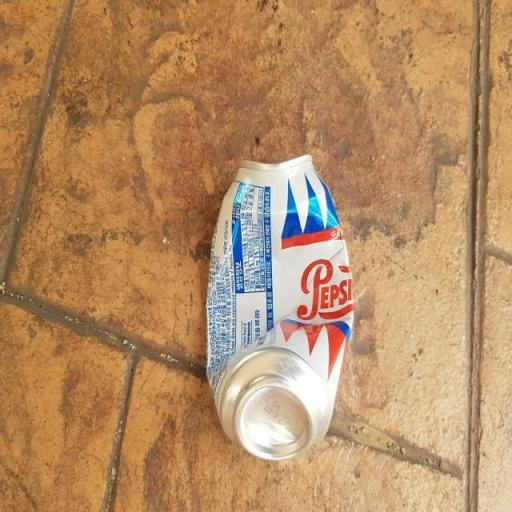metal: (149, 120, 406, 508)
